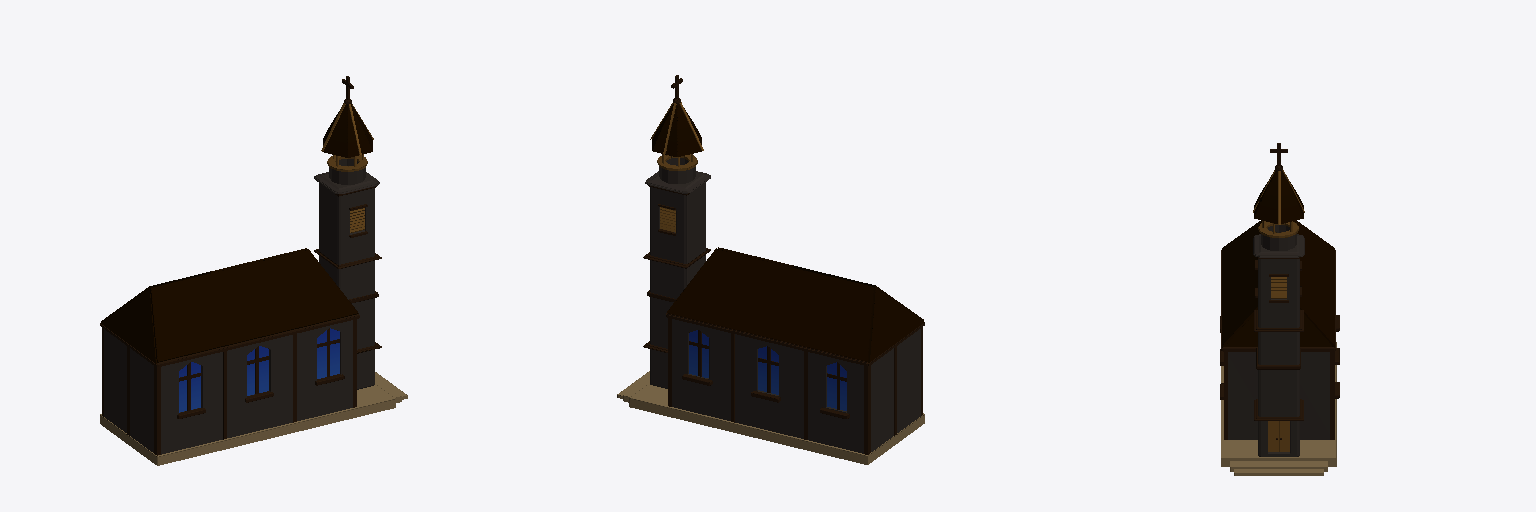
3 renders of one model, left to right at view 1: azimuth 30°, elevation 25°; view 2: azimuth 150°, elevation 25°; view 3: azimuth 270°, elevation 25°, orthographic.
Bounding box in the file's own units: 574 × 670 × 230.
1 materials, 1 textured.